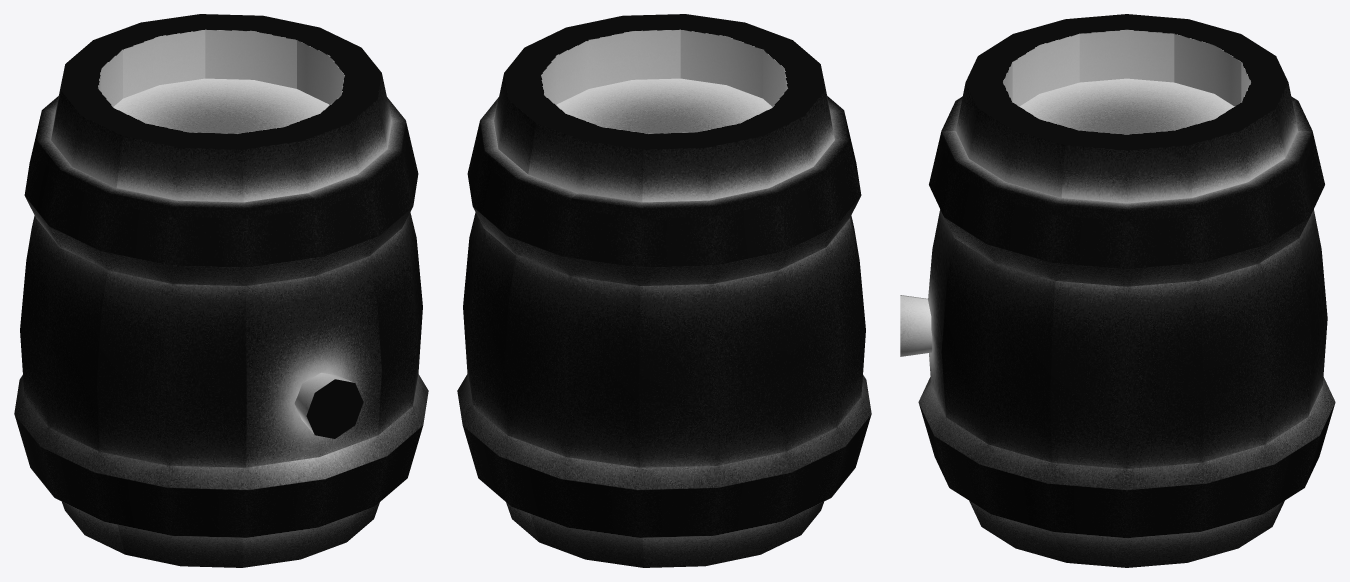
File: DemoBarrel.fbx
The picture shows the model from 3 angles, left to right: view 1: azimuth 30°, elevation 25°; view 2: azimuth 150°, elevation 25°; view 3: azimuth 270°, elevation 25°; orthographic projection.
Visible parts, largest first — view 1: DemoBarrel1_Solid; view 2: DemoBarrel1_Solid; view 3: DemoBarrel1_Solid.
Boxes of the visible parts, x1,y1,x2,y2 form: DemoBarrel1_Solid: [14, 14, 428, 567]; DemoBarrel1_Solid: [457, 14, 871, 567]; DemoBarrel1_Solid: [900, 14, 1335, 567].
Bounding box in the file's own units: 220 × 244 × 229.
1 material, 1 textured.
